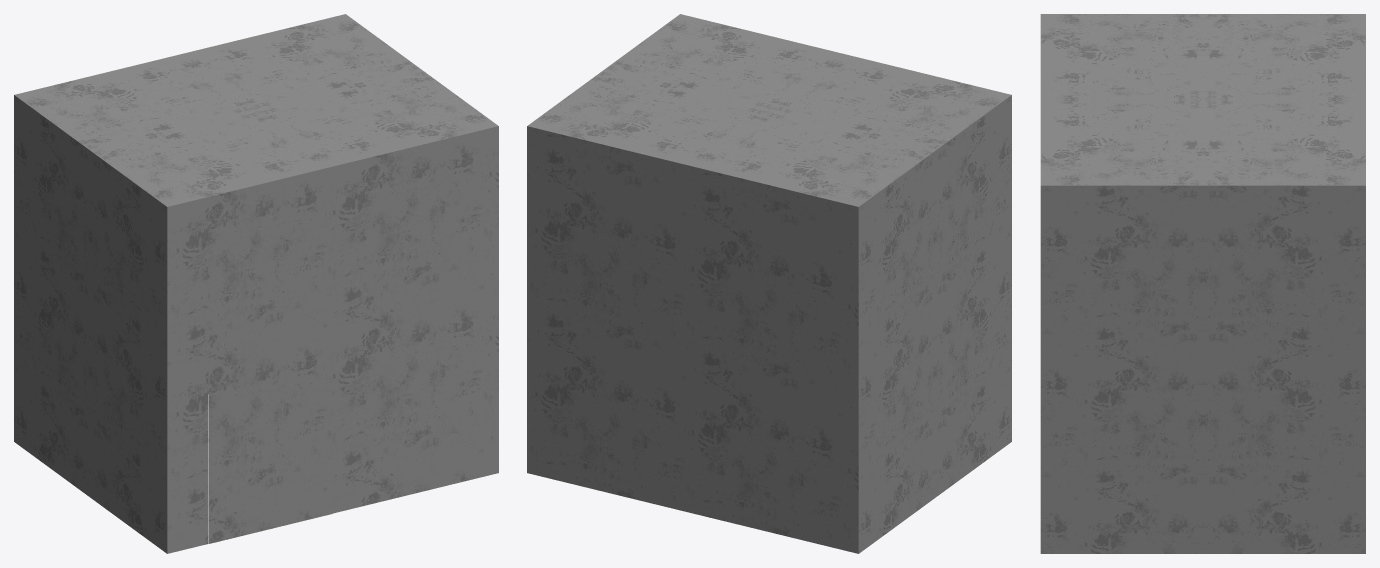
The model's file is cage.fbx.
3 renders of one model, left to right at view 1: azimuth 30°, elevation 25°; view 2: azimuth 150°, elevation 25°; view 3: azimuth 270°, elevation 25°, orthographic. The views are drawn at different scales.
Parts seen in each view (by area): view 1: Box001, Box002; view 2: Box001; view 3: Box001.
Part boxes in pixels (bbox=[...]): Box001: bbox=[14, 14, 498, 553]; Box002: bbox=[208, 259, 332, 543]; Box001: bbox=[527, 14, 1011, 553]; Box001: bbox=[1040, 14, 1365, 553].
Bounding box in the file's own units: 98.43 × 98.43 × 78.88.
Materials: 1 (1 with a texture image).
